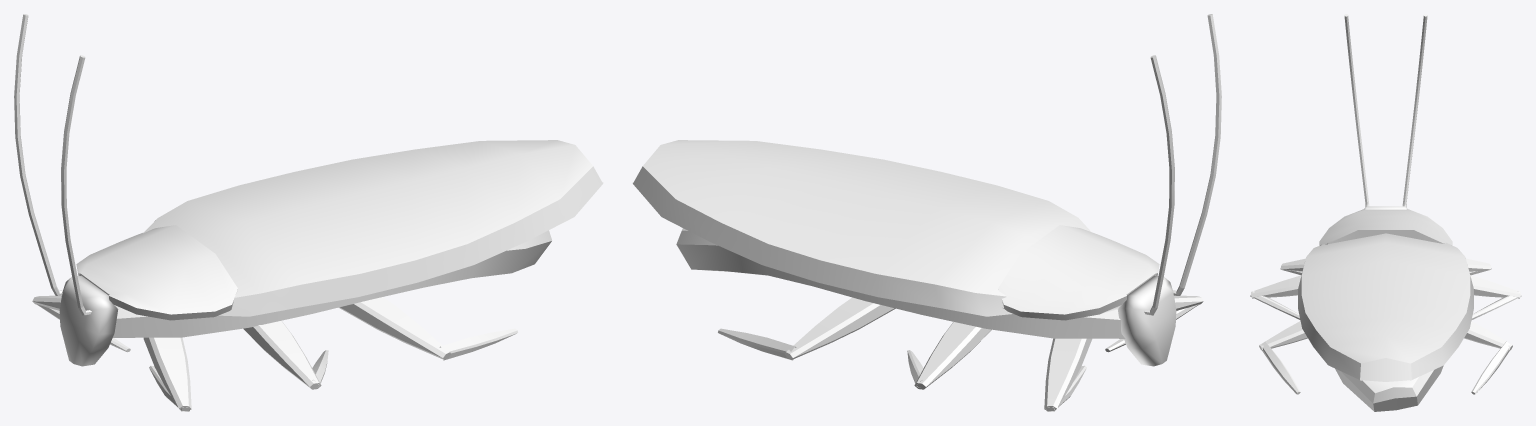
Rendered from Roach.fbx.
3 views of the same model, side by side, from view 1: azimuth 30°, elevation 25°; view 2: azimuth 150°, elevation 25°; view 3: azimuth 270°, elevation 25° (orthographic). The views are drawn at different scales.
Visible parts, largest first — view 1: roach; view 2: roach; view 3: roach.
Boxes of the visible parts, box(x1,y1,x2,y2) form: roach: box(14, 14, 603, 411); roach: box(632, 14, 1221, 411); roach: box(1250, 14, 1521, 411).
Size of the model in its own units: 1.33 by 0.801 by 0.8088.
